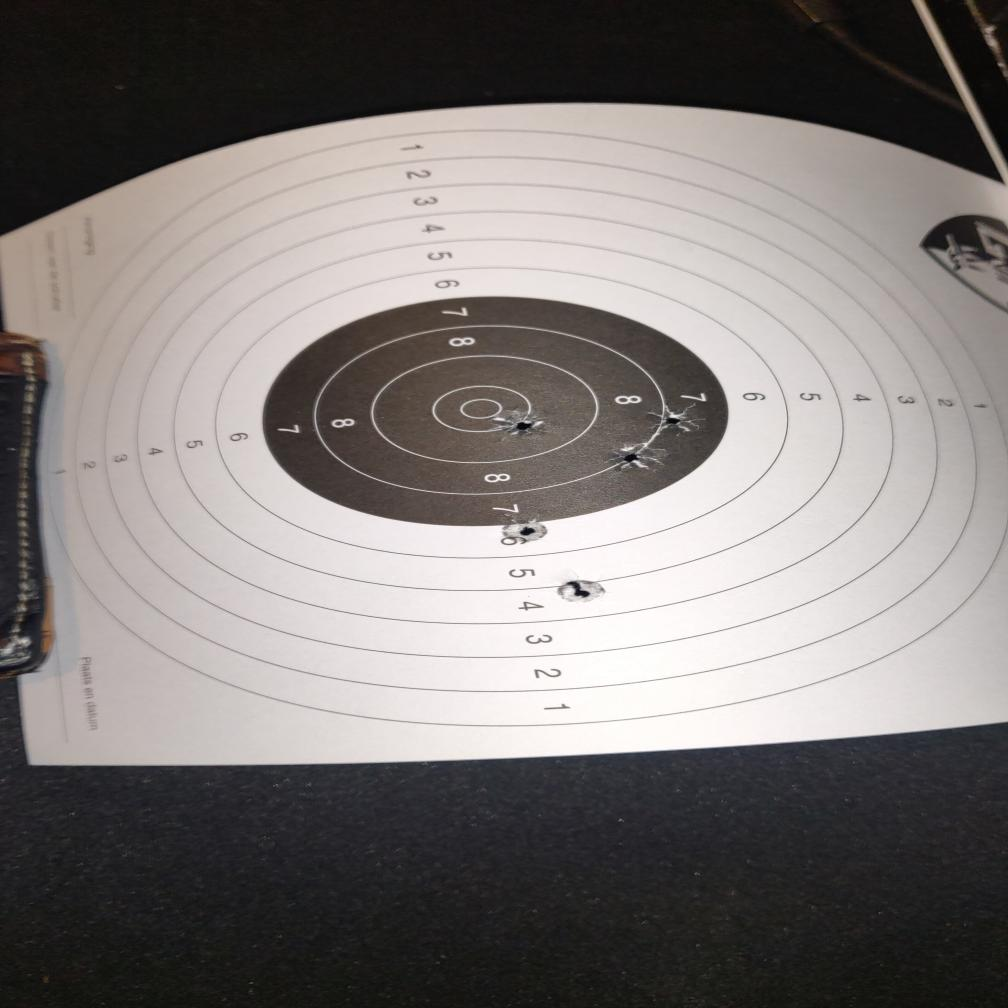10: (486, 410, 552, 440)
5: (551, 578, 604, 604)
7: (496, 516, 549, 543)
8: (602, 442, 668, 472), (645, 404, 706, 435)
Target: (36, 127, 1008, 727)
black_contour: (262, 296, 727, 528)
